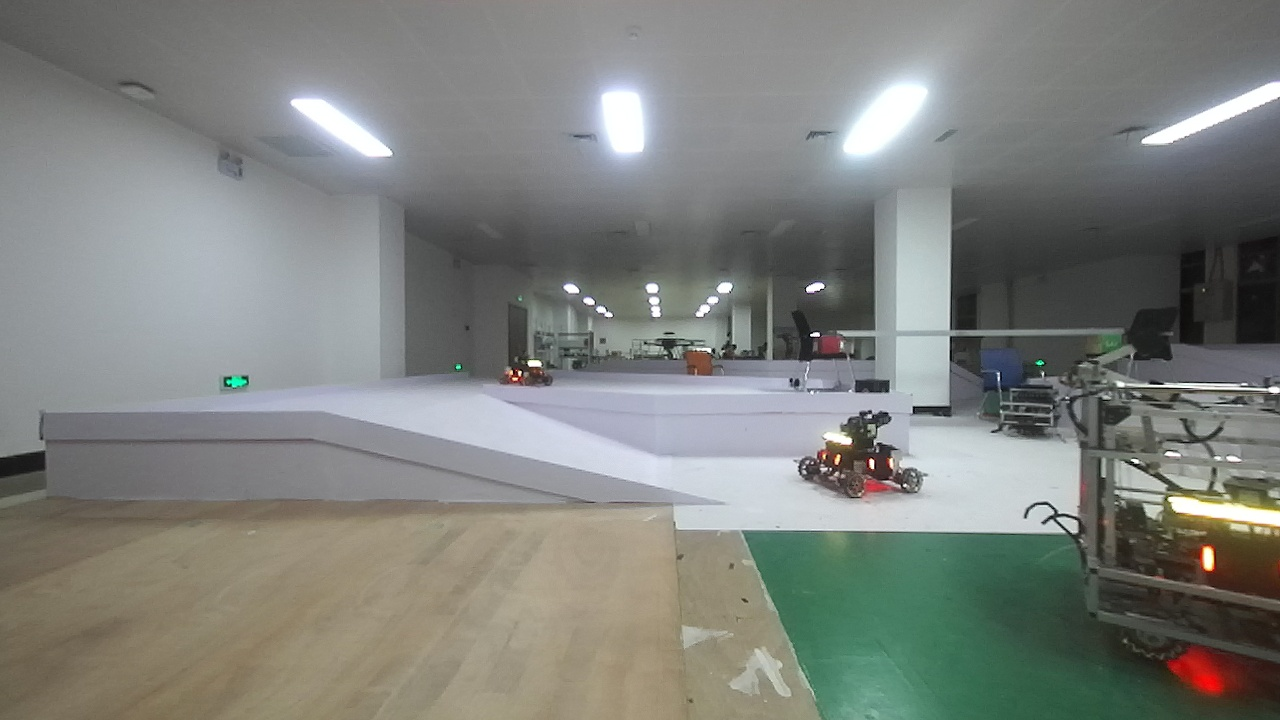car: (1067, 347, 1280, 718), (789, 419, 924, 501), (492, 360, 569, 396)
